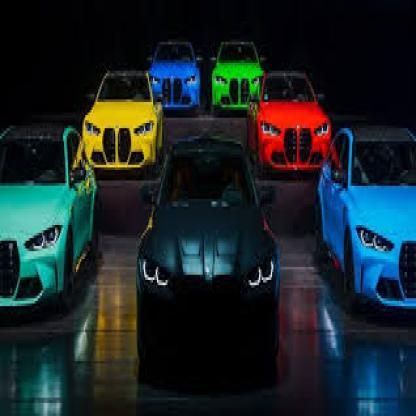car: (136, 136, 281, 371), (315, 121, 416, 312), (2, 125, 96, 305), (249, 63, 333, 163), (83, 72, 157, 167), (149, 44, 203, 111), (211, 42, 259, 105)
